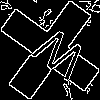W: (25, 25, 90, 90)
